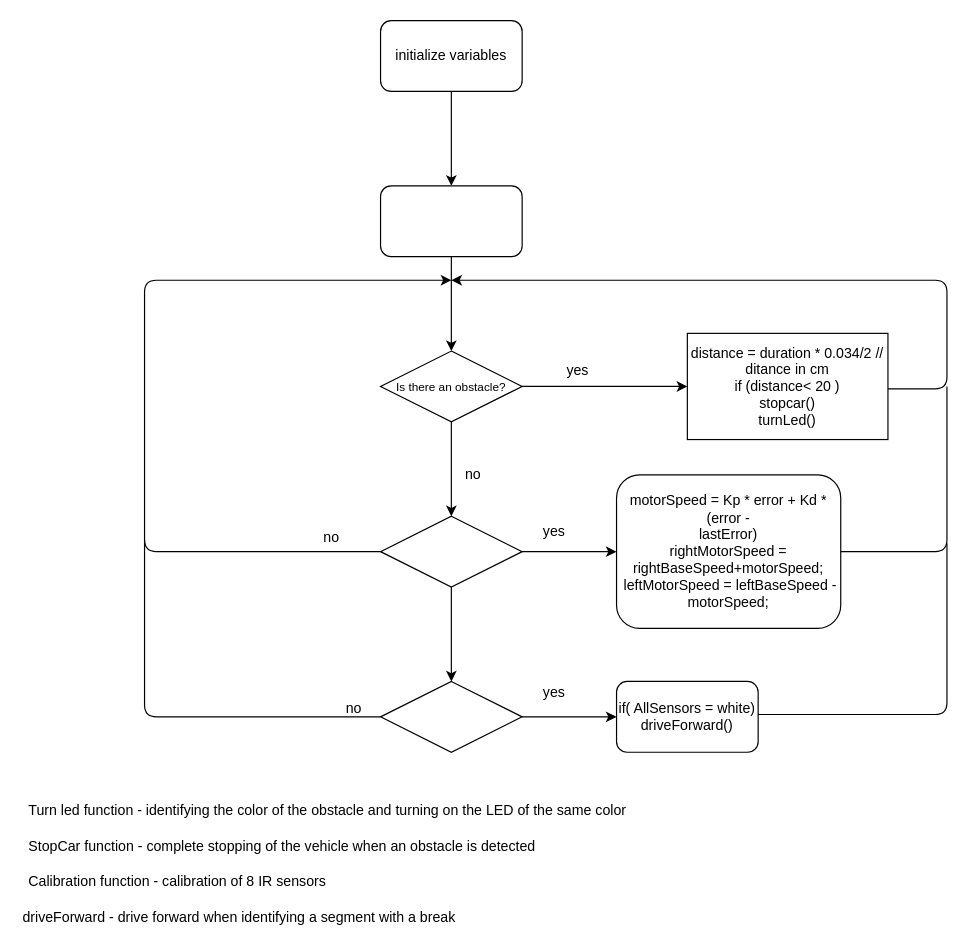
The diagram is 977 pixels wide and 950 high, and some of its shapes have lost their labels. Each missing label, with the centre of its shape:
"?Is there a deviation from the line?" belongs at point (450, 551).
"IR sensor calibration qtrrc.calibrate();" belongs at point (450, 221).
"Is there a section with breaks?" belongs at point (450, 716).
